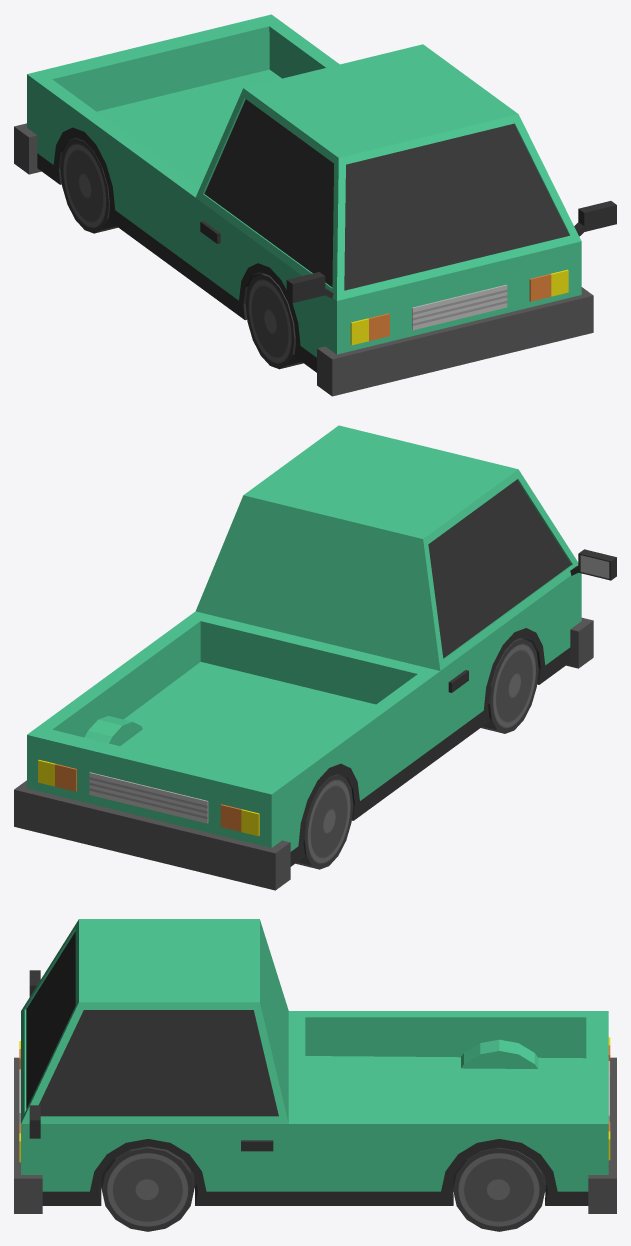
Rendered from miniTruck01_color02.fbx.
3 views of the same model, one above another, from view 1: azimuth 30°, elevation 25°; view 2: azimuth 150°, elevation 25°; view 3: azimuth 270°, elevation 25° (orthographic). The views are drawn at different scales.
Parts seen in each view (by area): view 1: Cube.460, Cube.459, Cube.463; view 2: Cube.460, Cube.459, Cube.463; view 3: Cube.460, Cube.462, Cube.461.
Part boxes in pixels (x1,y1,x2,y2): Cube.460: [14, 14, 616, 396]; Cube.459: [245, 273, 303, 369]; Cube.463: [60, 138, 117, 233]; Cube.460: [14, 425, 616, 890]; Cube.459: [481, 638, 538, 733]; Cube.463: [295, 774, 353, 869]; Cube.460: [14, 919, 616, 1213]; Cube.462: [101, 1146, 194, 1231]; Cube.461: [453, 1147, 545, 1231].
Bounding box in the file's own units: 280 × 187 × 476.
